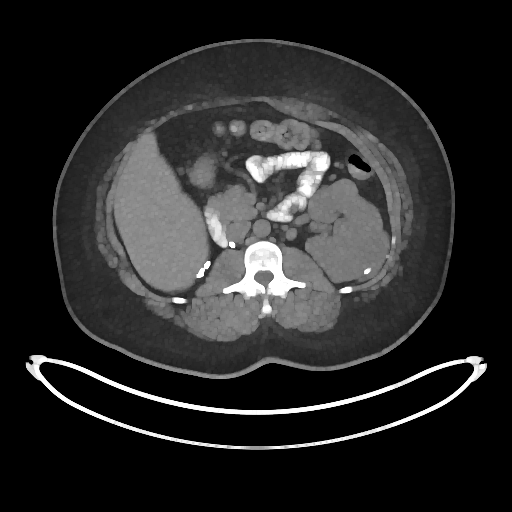Lesion: (342, 216, 392, 280)
